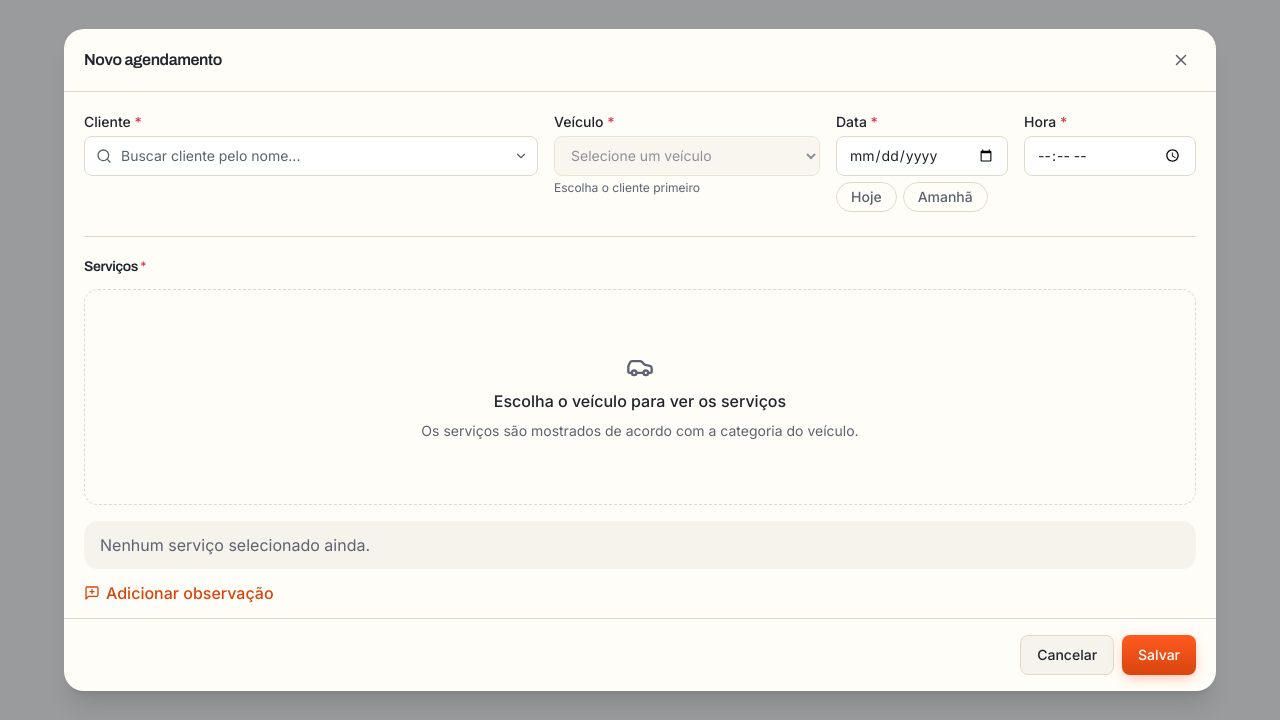
Scenario: AgendamentoFormModal › requires a client, a vehicle, a date and at least one service before saving
Step 1. Click the button "Salvar" → (1159, 655), box [1122, 635, 1196, 675]
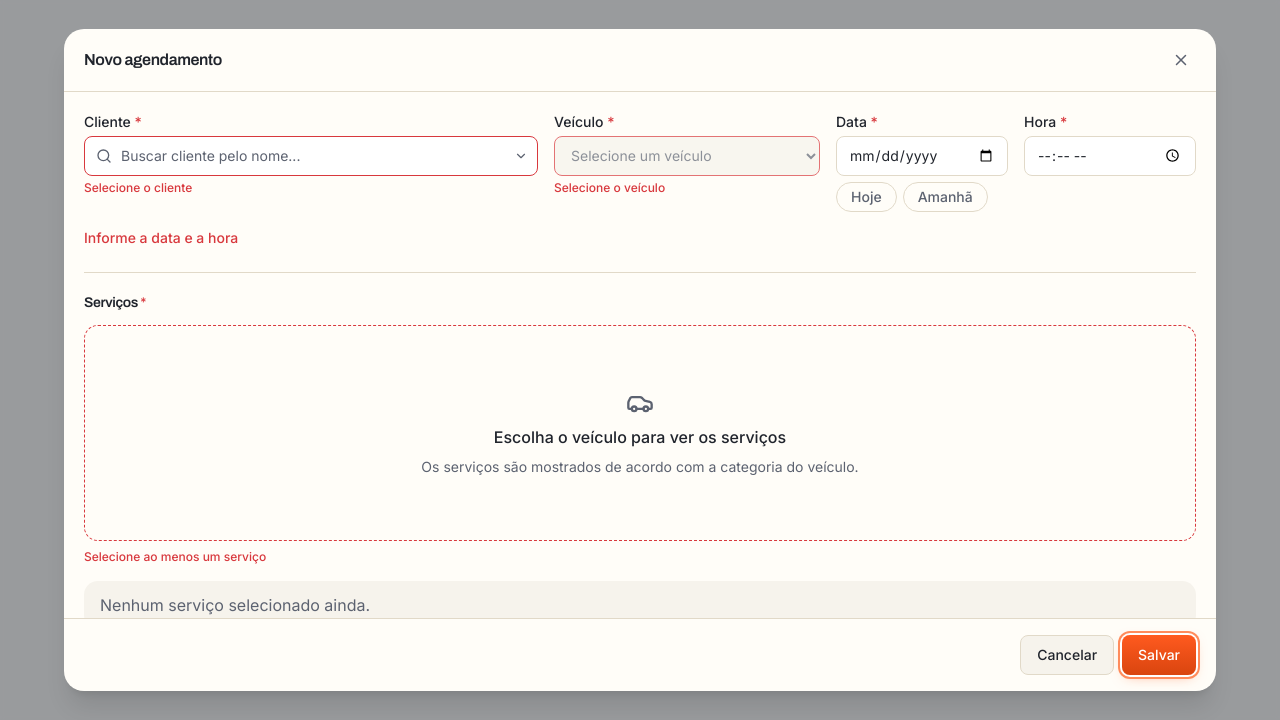
Check: the text "Selecione o cliente" is shown, box [84, 180, 192, 195]
Check: the text "Selecione o veículo" is shown, box [554, 180, 665, 195]
Check: the text "Informe a data e a hora" is shown, box [84, 229, 238, 246]
